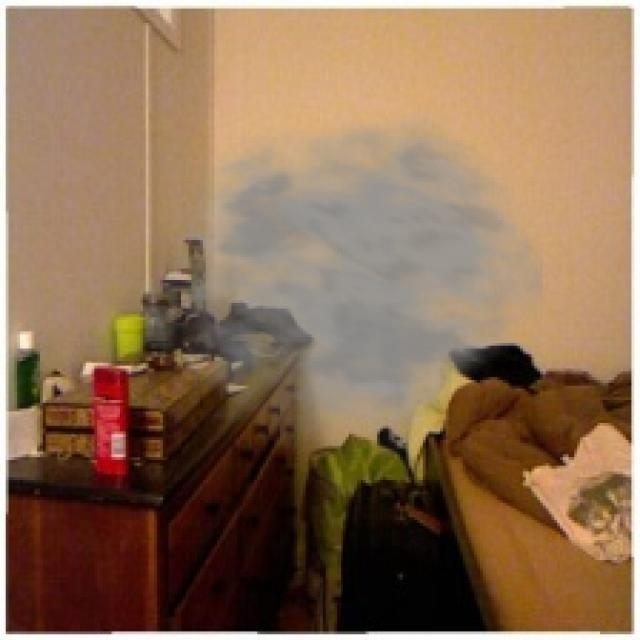Smoke: (128, 109, 548, 458)
